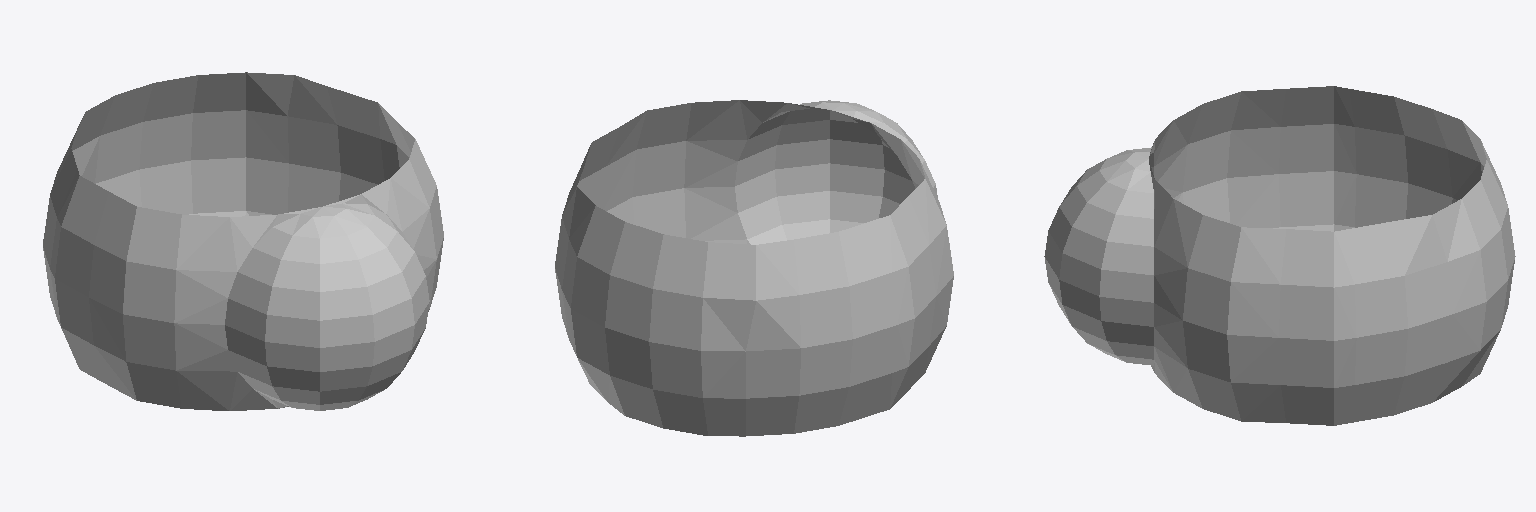
Rendered from HipRoll.obj.
3 renders of one model, left to right at view 1: azimuth 30°, elevation 25°; view 2: azimuth 150°, elevation 25°; view 3: azimuth 270°, elevation 25°, orthographic.
Parts seen in each view (by area): view 1: HipRoll_HipRoll; view 2: HipRoll_HipRoll; view 3: HipRoll_HipRoll.
Part boxes in pixels (left/top/right/bottom): HipRoll_HipRoll: left=43, top=72, right=443, bottom=410; HipRoll_HipRoll: left=555, top=100, right=953, bottom=436; HipRoll_HipRoll: left=1044, top=86, right=1515, bottom=425.
Size of the model in its own units: 0.1902 by 0.1014 by 0.2229.